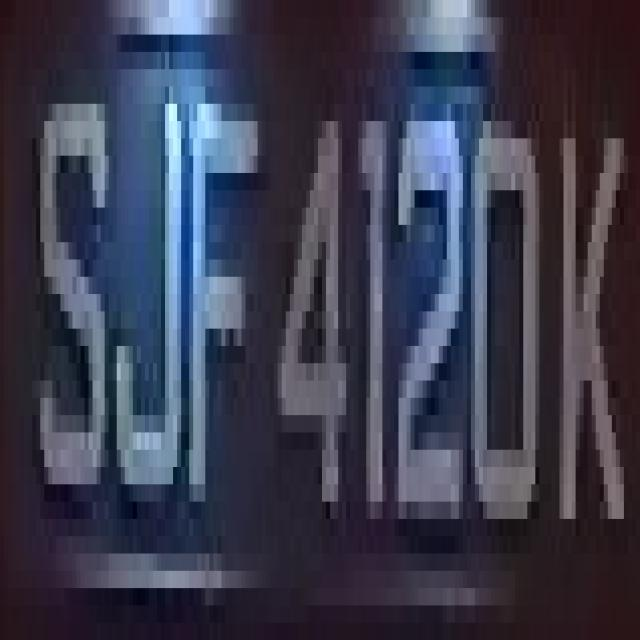0: (463, 34, 543, 570)
1: (354, 87, 386, 588)
2: (386, 87, 475, 588)
4: (270, 52, 350, 571)
F: (177, 69, 262, 571)
J: (113, 52, 185, 553)
K: (551, 69, 628, 571)
S: (32, 34, 113, 554)
